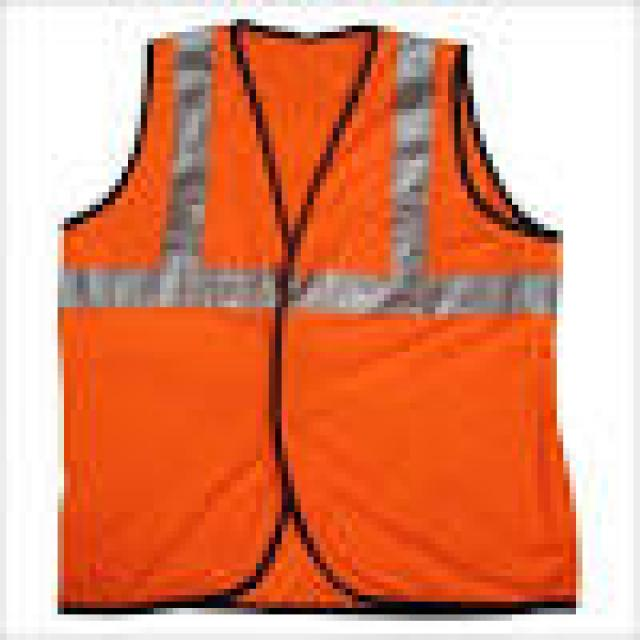Reflective-Jacket: (26, 0, 634, 640)
